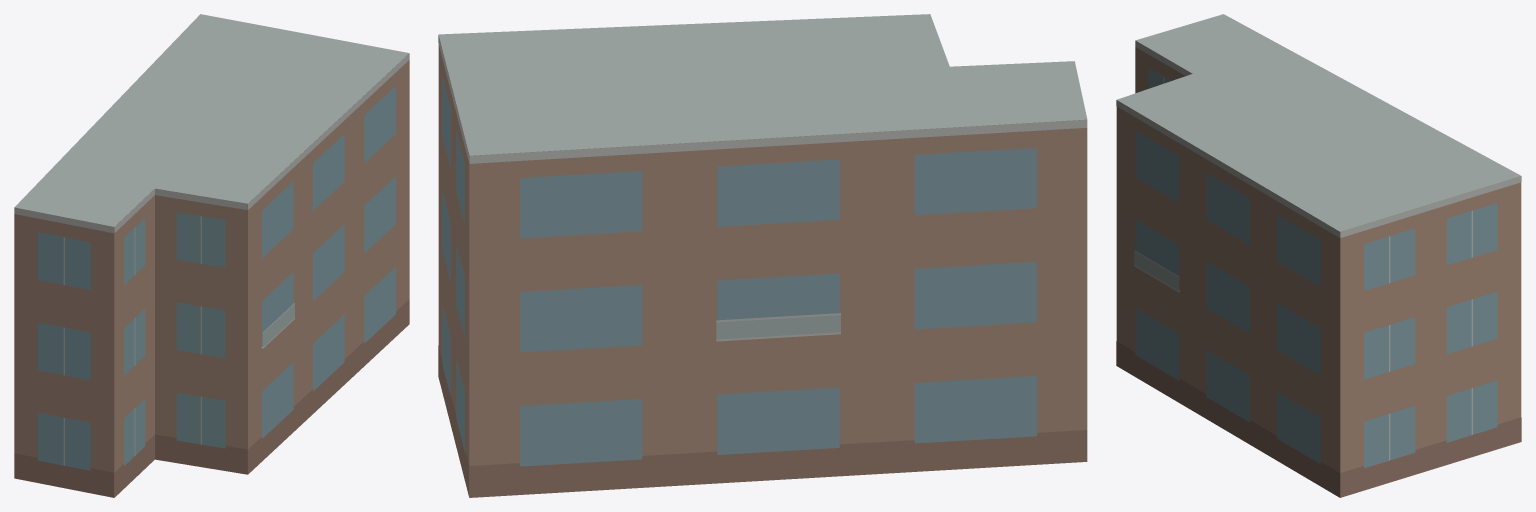
File: survey-upis-32919580.glb
3 views of the same model, side by side, from view 1: azimuth 30°, elevation 25°; view 2: azimuth 150°, elevation 25°; view 3: azimuth 270°, elevation 25° (orthographic). The views are drawn at different scales.
Visible parts, largest first — view 1: survey-upis-32919580.tmp; view 2: survey-upis-32919580.tmp; view 3: survey-upis-32919580.tmp.
Part boxes in pixels (<box>): survey-upis-32919580.tmp: <box>14,14,409,497</box>; survey-upis-32919580.tmp: <box>438,14,1087,497</box>; survey-upis-32919580.tmp: <box>1116,14,1521,497</box>.
Bounding box in the file's own units: 17.92 × 10.2 × 14.08.
